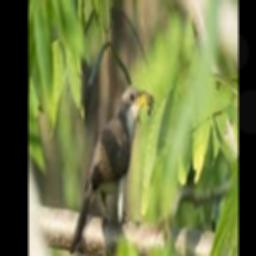Cuckoo: (69, 86, 152, 253)
